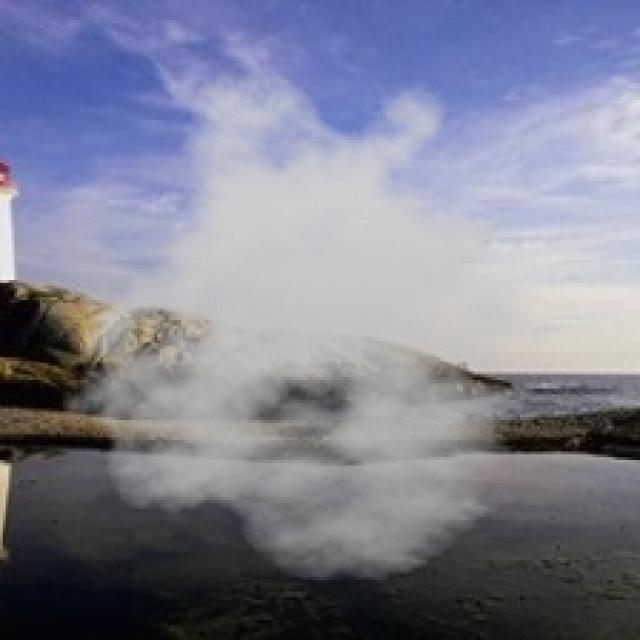smoke: (49, 63, 592, 583)
